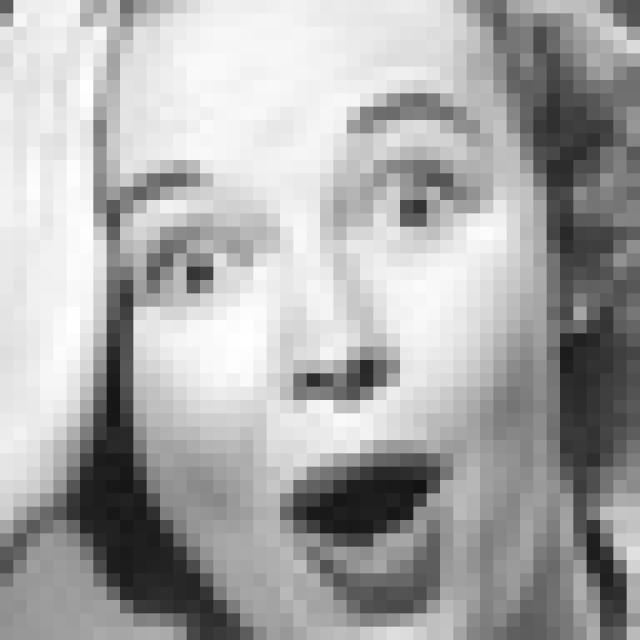surprise: (108, 79, 498, 614)
